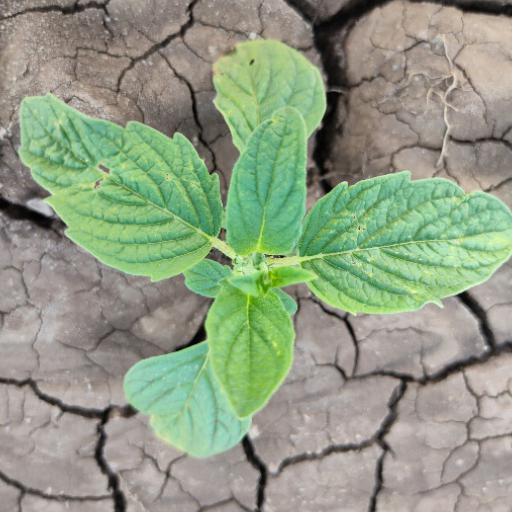crop: (23, 26, 512, 460)
